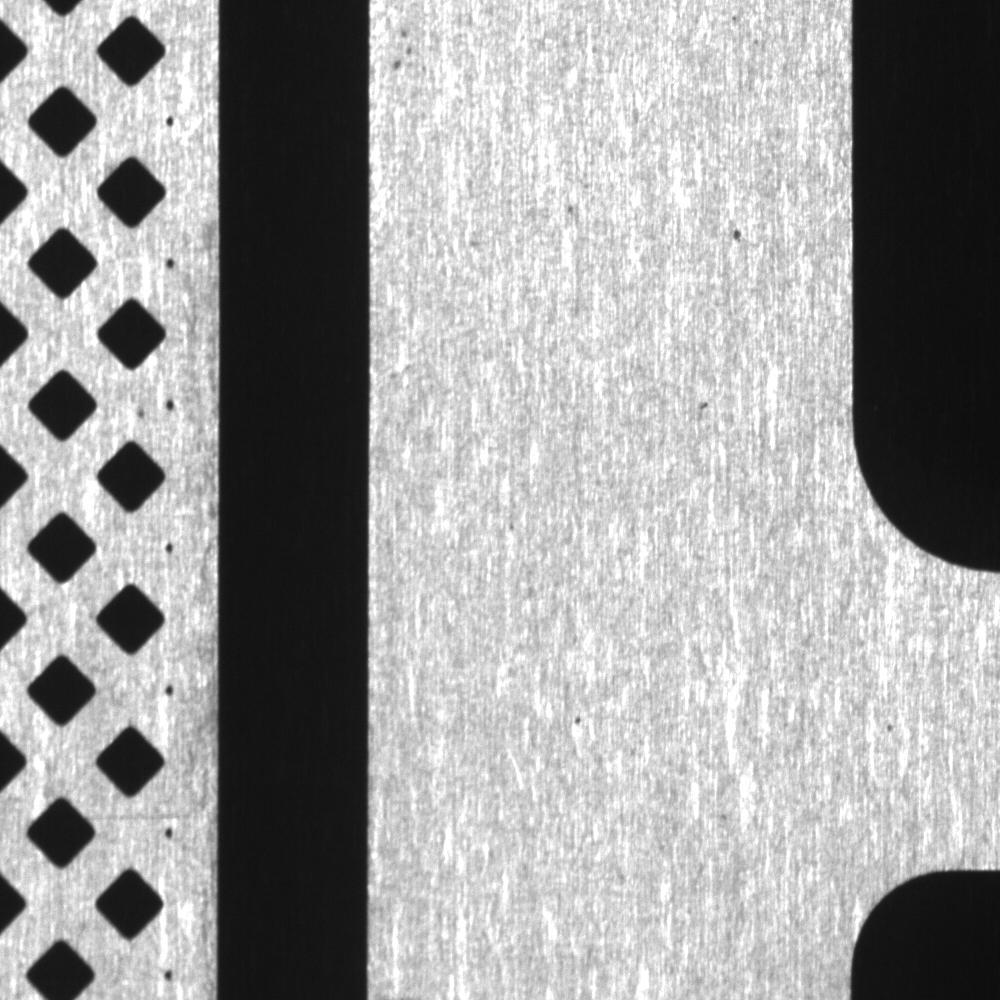Etching: (386, 10, 434, 89), (724, 209, 750, 249), (693, 397, 716, 418)
Pinhole: (877, 712, 901, 739), (566, 706, 589, 731)
